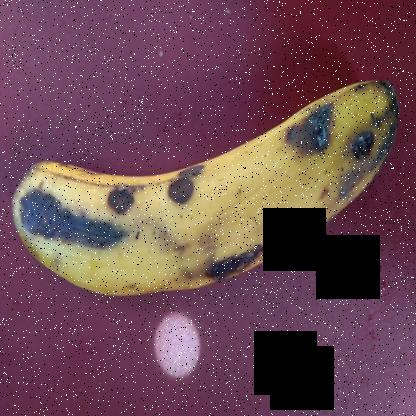overripe: (1, 59, 415, 314)
